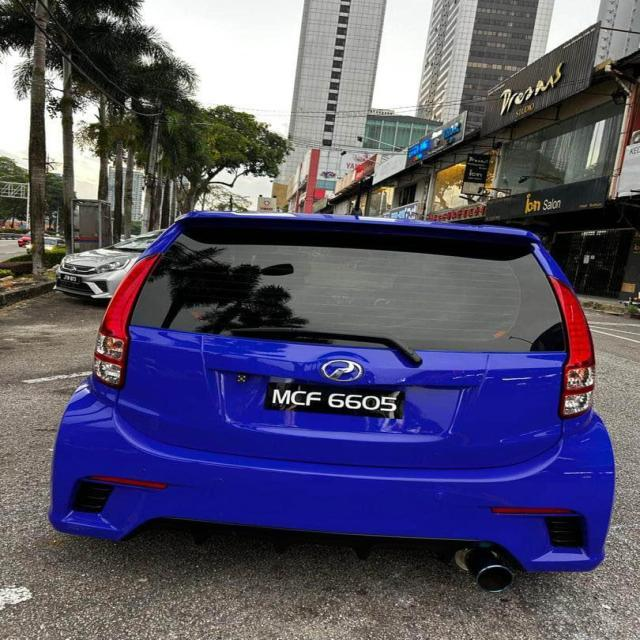PeroduaMyvi: (46, 208, 616, 592)
